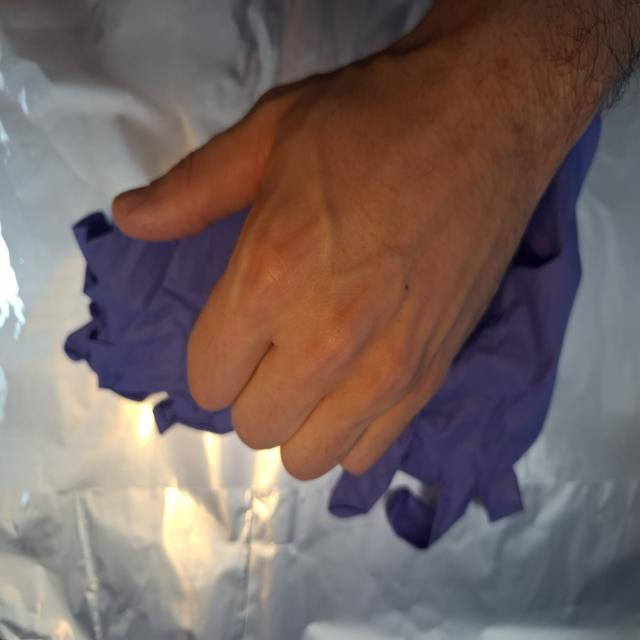glove_off: (111, 48, 547, 484)
